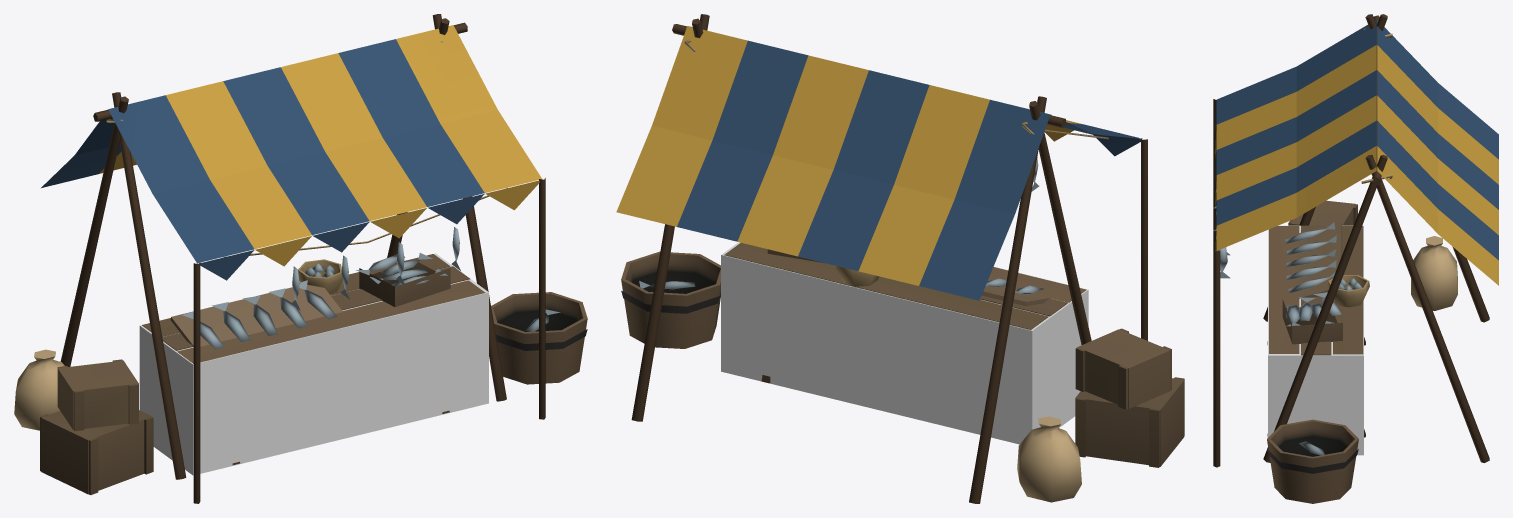
The model's file is market_stall_b.glb.
3 views of the same model, side by side, from view 1: azimuth 30°, elevation 25°; view 2: azimuth 150°, elevation 25°; view 3: azimuth 270°, elevation 25° (orthographic). The views are drawn at different scales.
Visible parts, largest first — view 1: market_stall_b, COL_table; view 2: market_stall_b, COL_table; view 3: market_stall_b, COL_table.
Boxes of the visible parts, box(x1,y1,x2,y2) form: market_stall_b: box(14, 14, 587, 503); COL_table: box(139, 253, 488, 475); market_stall_b: box(616, 14, 1184, 503); COL_table: box(721, 242, 1088, 444); market_stall_b: box(1213, 14, 1498, 503); COL_table: box(1268, 225, 1363, 455).
Bounding box in the file's own units: 4.25 × 2.64 × 2.23.
